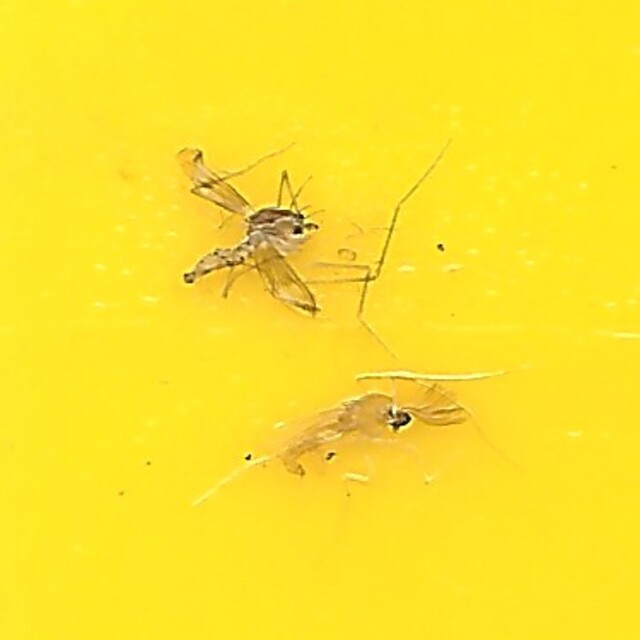Nematocera: (171, 150, 335, 321), (256, 381, 469, 490)
